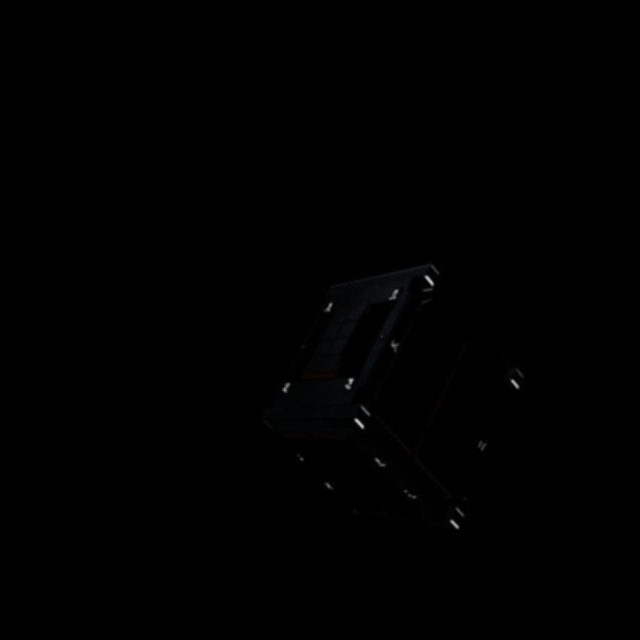medium_debris: (256, 246, 539, 560)
